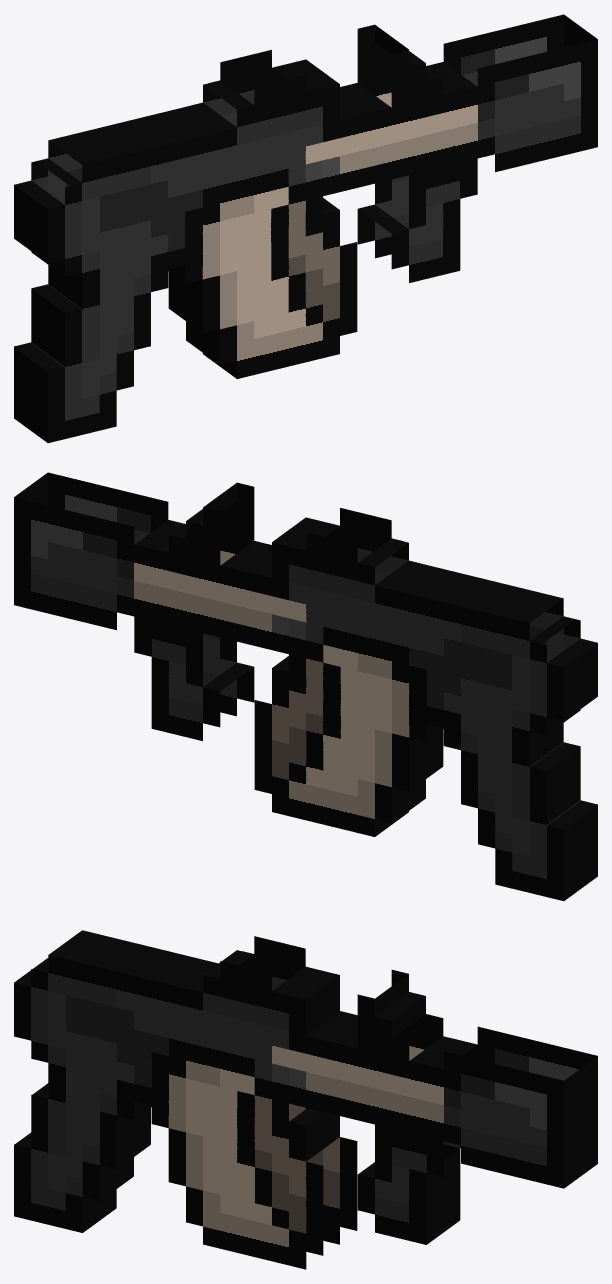
The model's file is shotgunAUTO.fbx.
3 renders of one model, top to bottom at view 1: azimuth 30°, elevation 25°; view 2: azimuth 150°, elevation 25°; view 3: azimuth 330°, elevation 25°, orthographic.
Parts seen in each view (by area): view 1: shotgunAUTO; view 2: shotgunAUTO; view 3: shotgunAUTO.
Boxes of the visible parts, left/top/right/bottom form: shotgunAUTO: left=14, top=14, right=597, bottom=443; shotgunAUTO: left=14, top=472, right=597, bottom=901; shotgunAUTO: left=14, top=930, right=597, bottom=1269.
Size of the model in its own units: 168 by 89.6 by 18.
